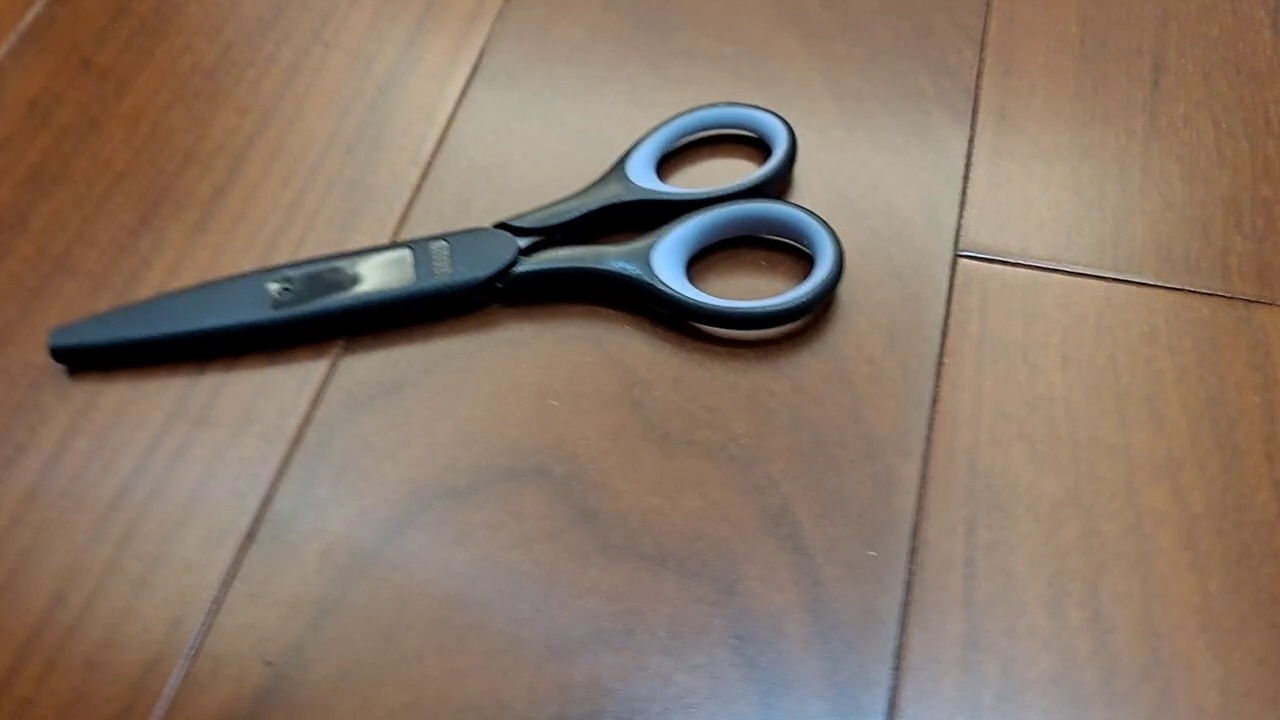scissors: (44, 100, 847, 382)
